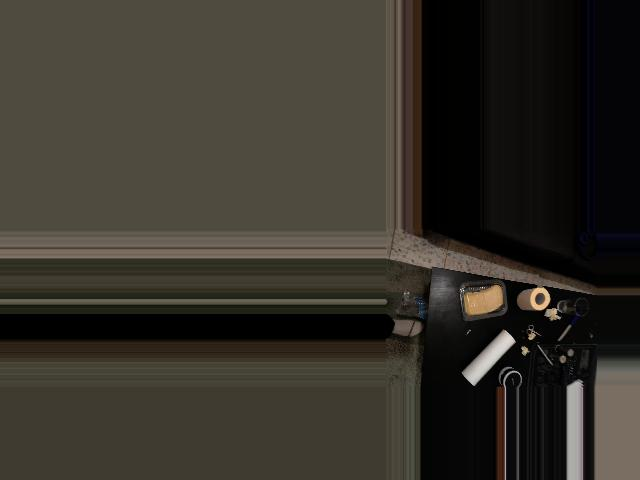cheese: (454, 277, 508, 322)
